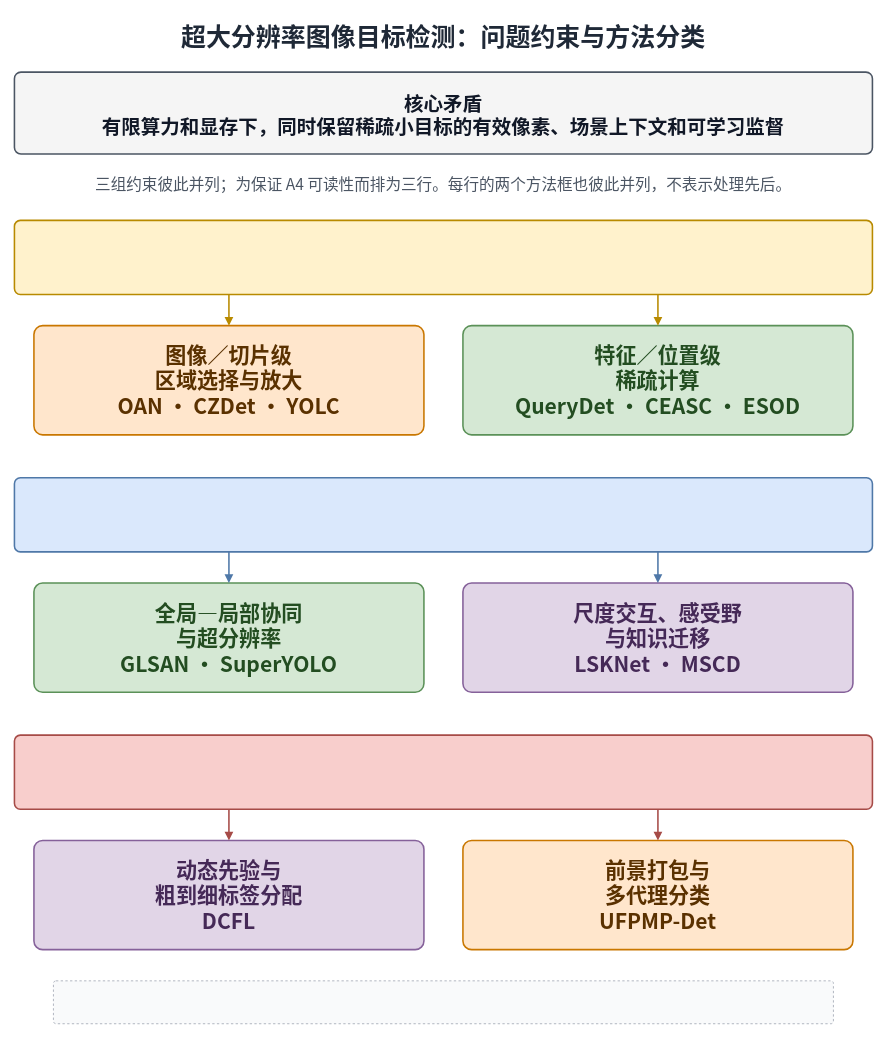
Image size: 886x1037. Some labels were removed from this diagram. The centre of each missing label's shape, as x and y in pixels:
① 计算域选择 目标稀疏、局部聚簇，背景计算占比高: point 443,257
② 分辨率与上下文 缩放会丢失细节，过紧的局部处理又会损失场景语义: point 443,514
③ 监督与分类 微小／旋转目标的正样本不足，类间相似与类内变化并存: point 443,772
分类依据是“主要改动位于哪里”；实际系统可以跨组组合。: point 443,1002
